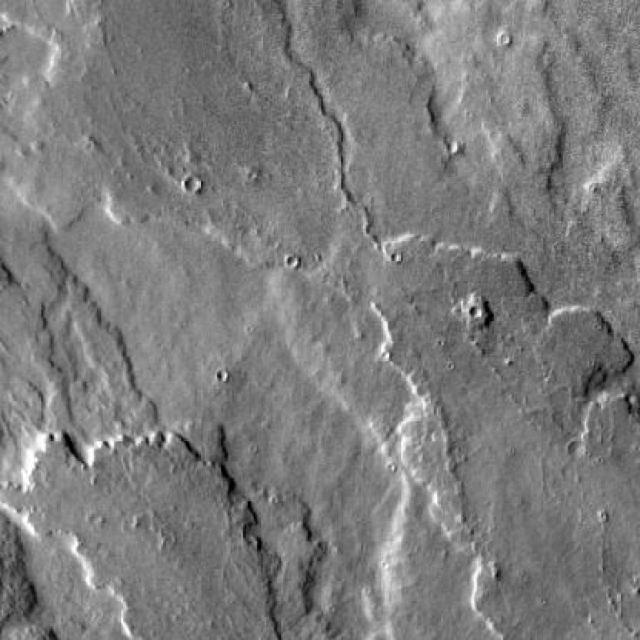crater: (197, 166, 212, 182)
